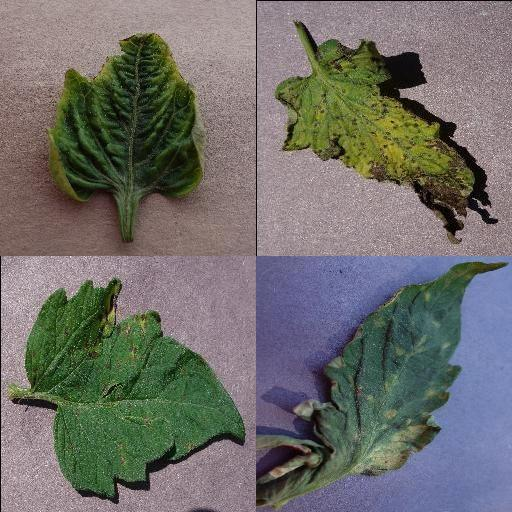Leaf Mold: (293, 260, 509, 478)
Septoria: (26, 280, 246, 498), (272, 39, 473, 245)
Yellow Leaf Curl Virus: (48, 32, 206, 204)
